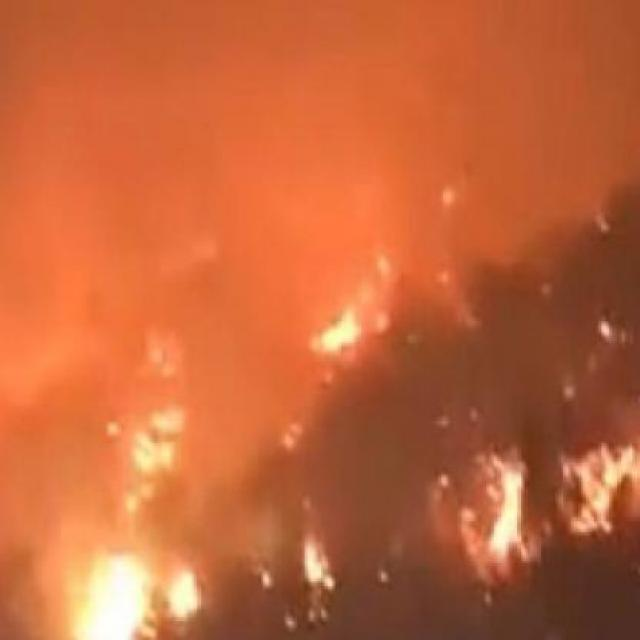Fire: (432, 378, 640, 636), (37, 534, 219, 638)
